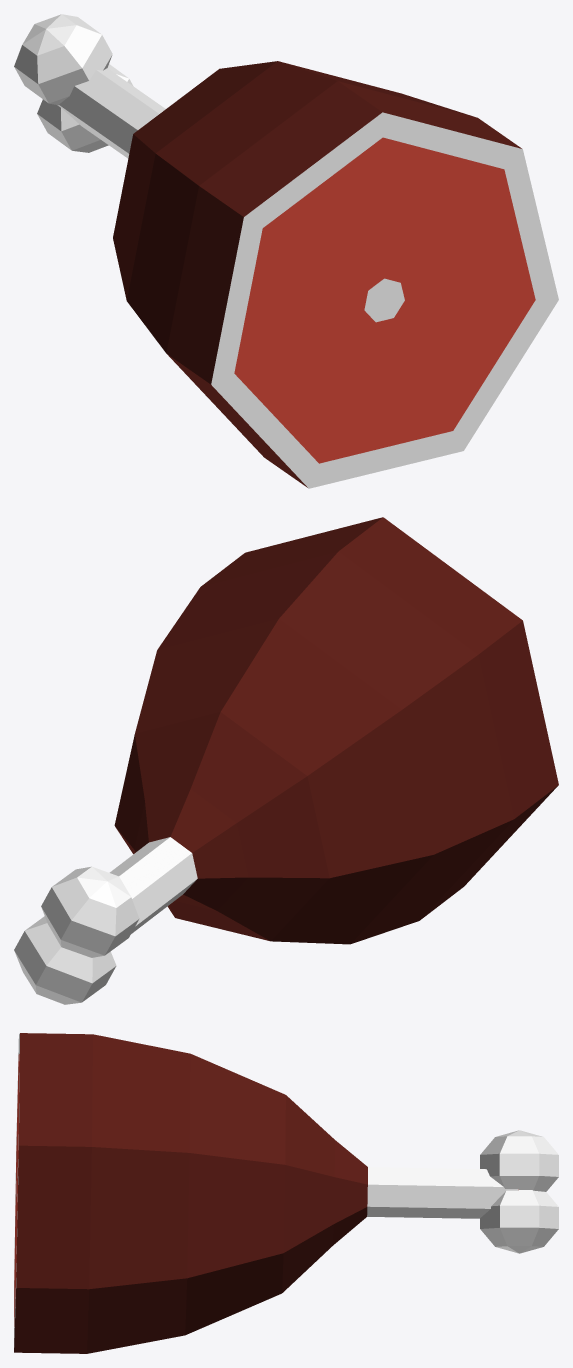
Rendered from Meat2.fbx.
3 views of the same model, one above another, from view 1: azimuth 30°, elevation 25°; view 2: azimuth 150°, elevation 25°; view 3: azimuth 270°, elevation 25° (orthographic). The views are drawn at different scales.
Parts seen in each view (by area): view 1: Sphere.001; view 2: Sphere.001; view 3: Sphere.001.
Part boxes in pixels (x1=…): Sphere.001: x1=14, y1=14, x2=558, y2=488; Sphere.001: x1=14, y1=517, x2=558, y2=1004; Sphere.001: x1=14, y1=1033, x2=558, y2=1353.
Size of the model in its own units: 195 by 191 by 325.
1 material, 1 textured.
